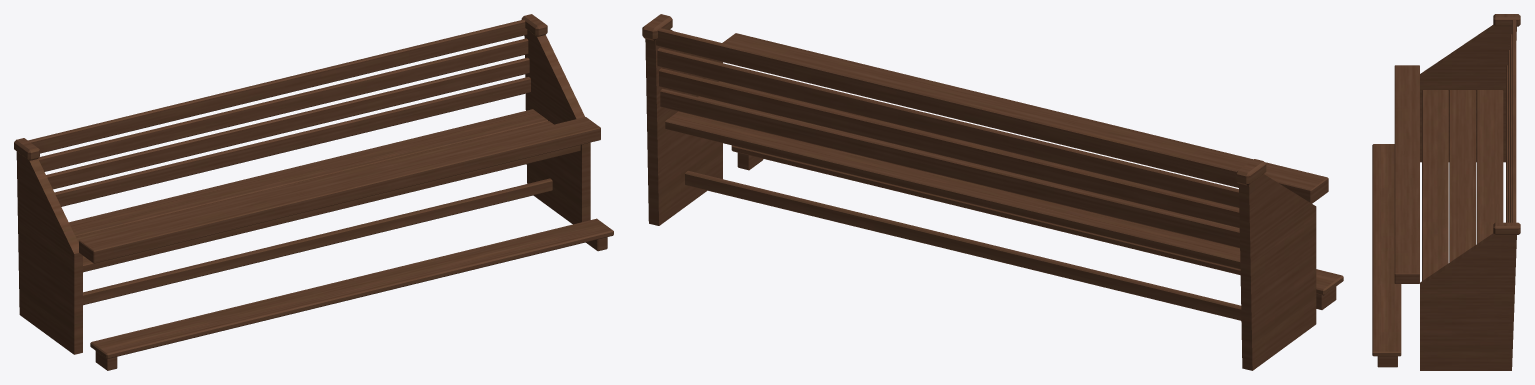
The model's file is banco_igreja.glb.
The picture shows the model from 3 angles, left to right: view 1: azimuth 30°, elevation 25°; view 2: azimuth 150°, elevation 25°; view 3: azimuth 270°, elevation 25°; orthographic projection. The views are drawn at different scales.
Parts seen in each view (by area): view 1: banco_igreja_madeira_escura; view 2: banco_igreja_madeira_escura; view 3: banco_igreja_madeira_escura.
Boxes of the visible parts, x1,y1,x2,y2 form: banco_igreja_madeira_escura: (14, 14, 613, 370); banco_igreja_madeira_escura: (642, 14, 1343, 370); banco_igreja_madeira_escura: (1372, 14, 1520, 370).
Bounding box in the file's own units: 2.97 × 0.94 × 0.87.
1 material, 1 textured.
